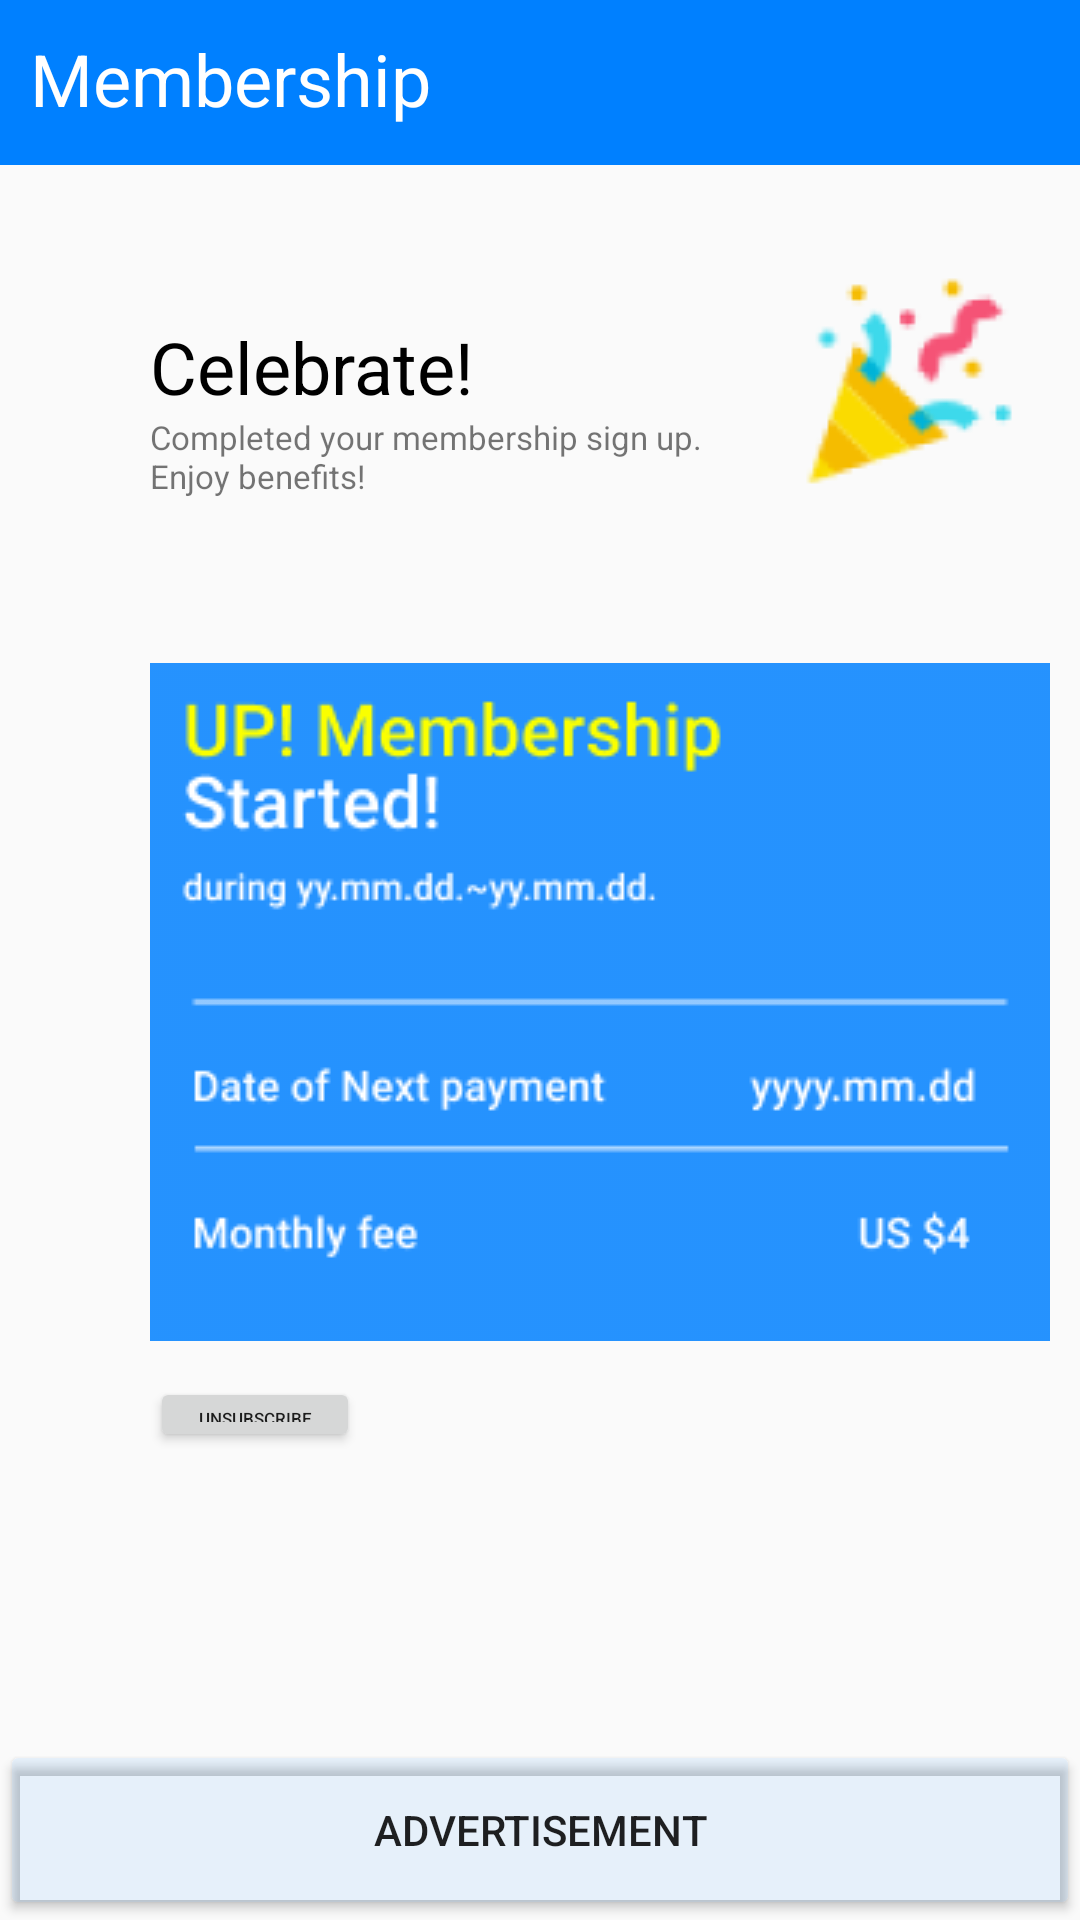

Point at icon controls on the screen. Image size 1080×1920, points as (x=x, y=y).
cele: (x=909, y=381)
